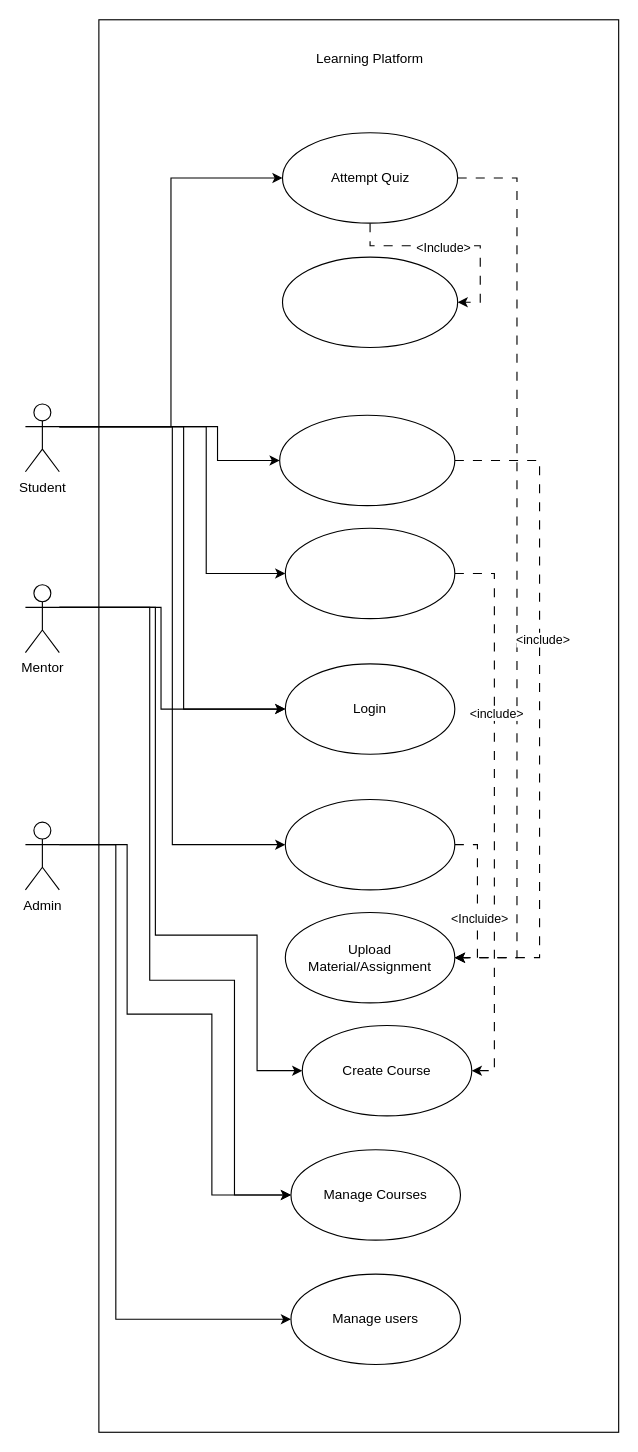
Some shapes in this 638 by 1452 pixel diagram are drawn without their labels. Here are the shapes that lost their labels. From the top down, the centre of each, then its label:
(x=369, y=301): View Score
(x=367, y=460): Submit Assignment
(x=369, y=573): Enroll in Course
(x=369, y=844): Access Material
